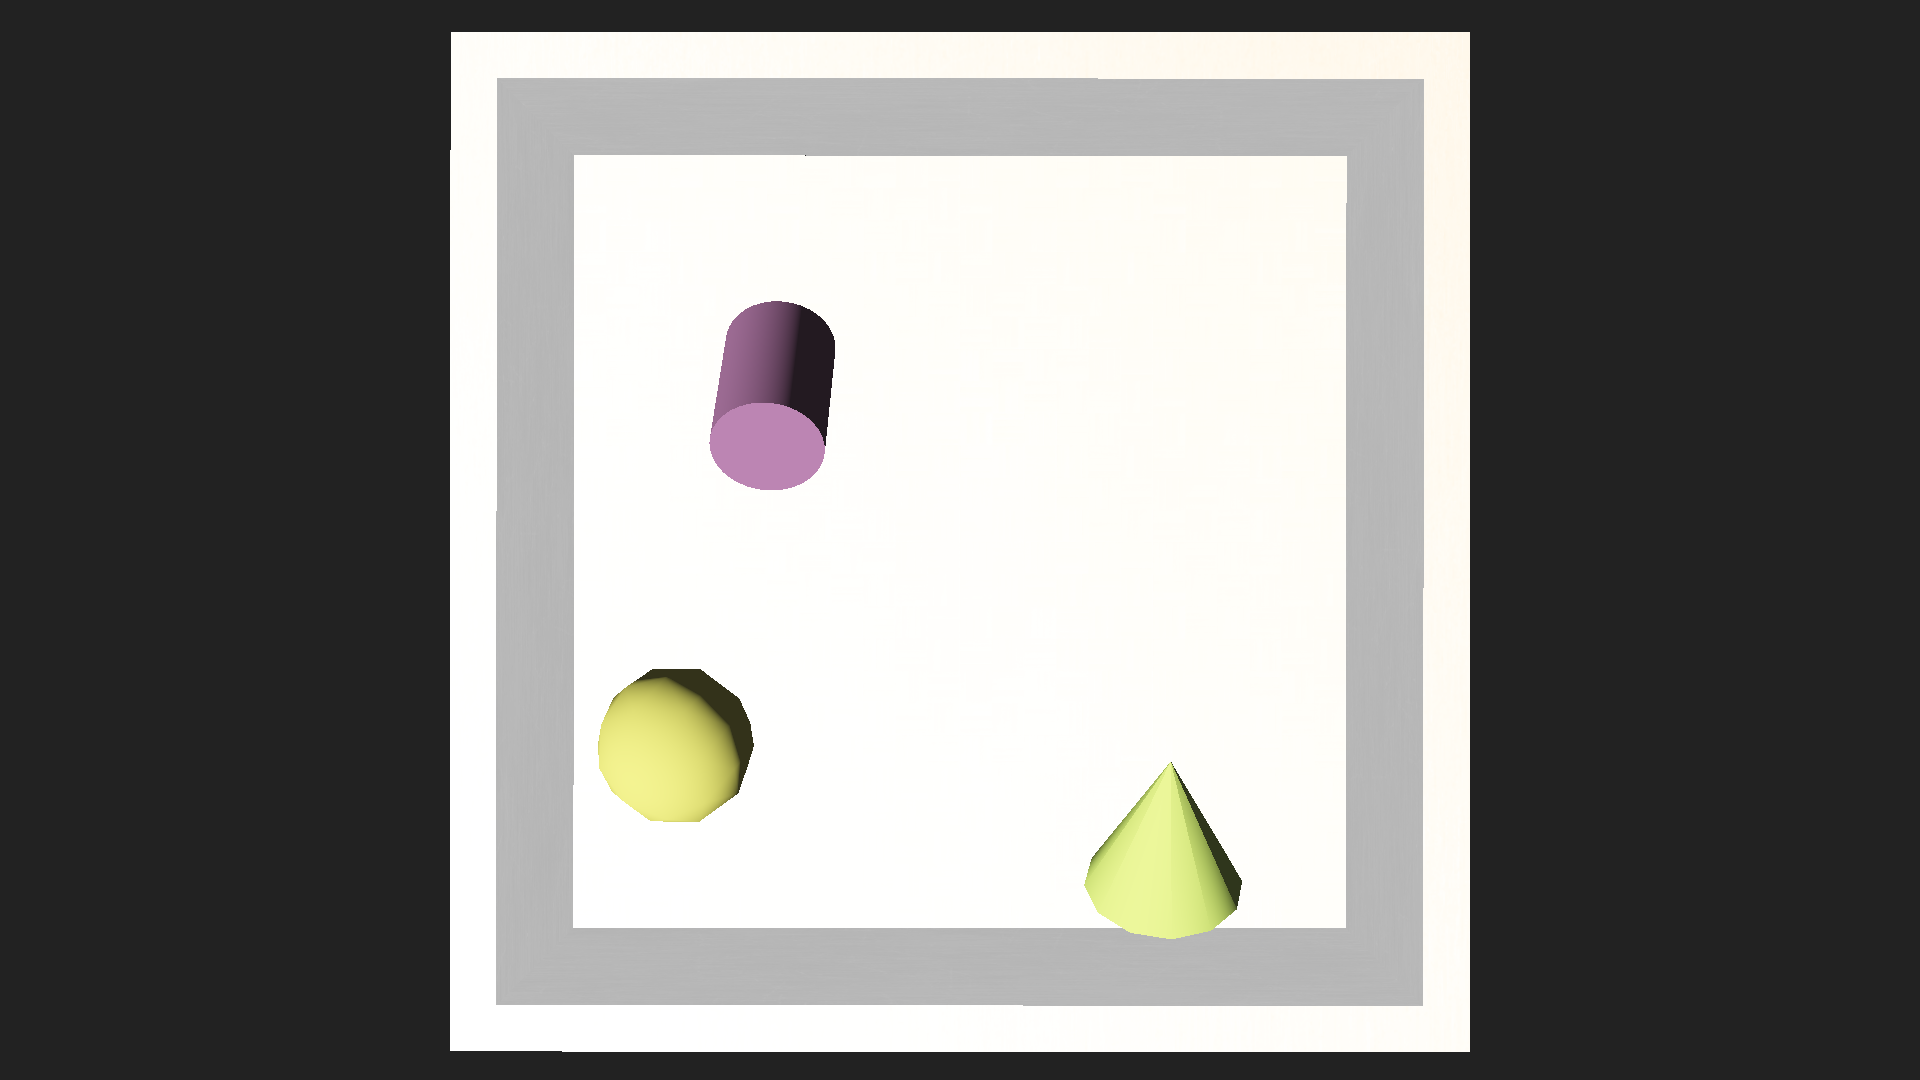cone: (704, 287, 837, 492)
cylinder: (1085, 705, 1255, 951)
sphere: (595, 665, 756, 824)
